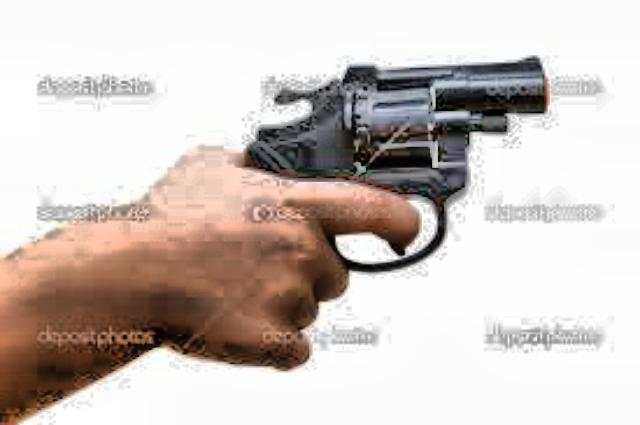pistol: (233, 54, 551, 276)
